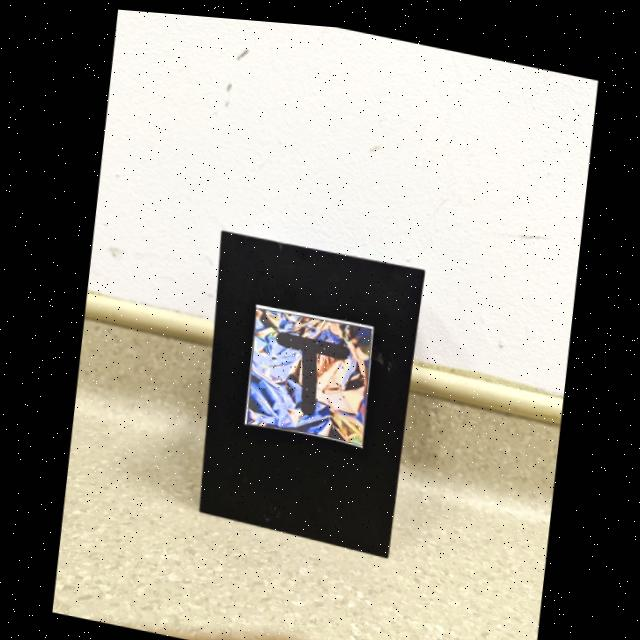T: (275, 327, 348, 410)
